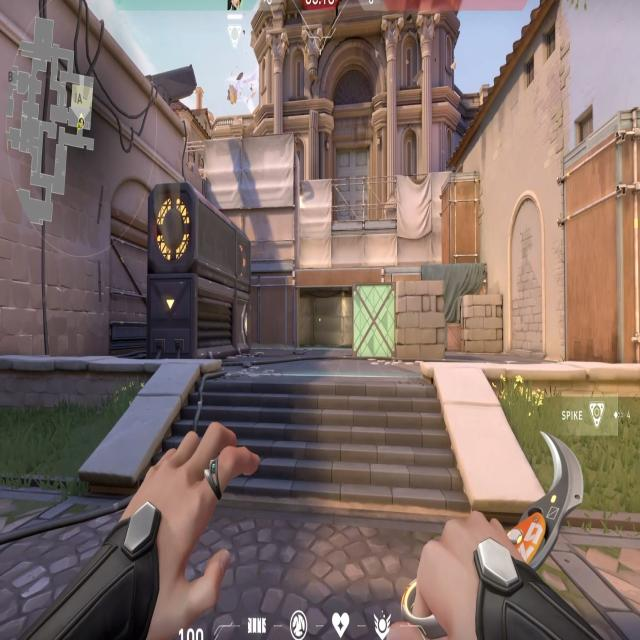A_Heaven_Box: (441, 168, 481, 266)
A_Heaven_Wall: (203, 130, 301, 270)
A_Hell: (284, 274, 399, 356)
A_Site_Box: (351, 281, 446, 356)
